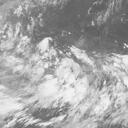cyclone: (37, 51, 106, 107)
